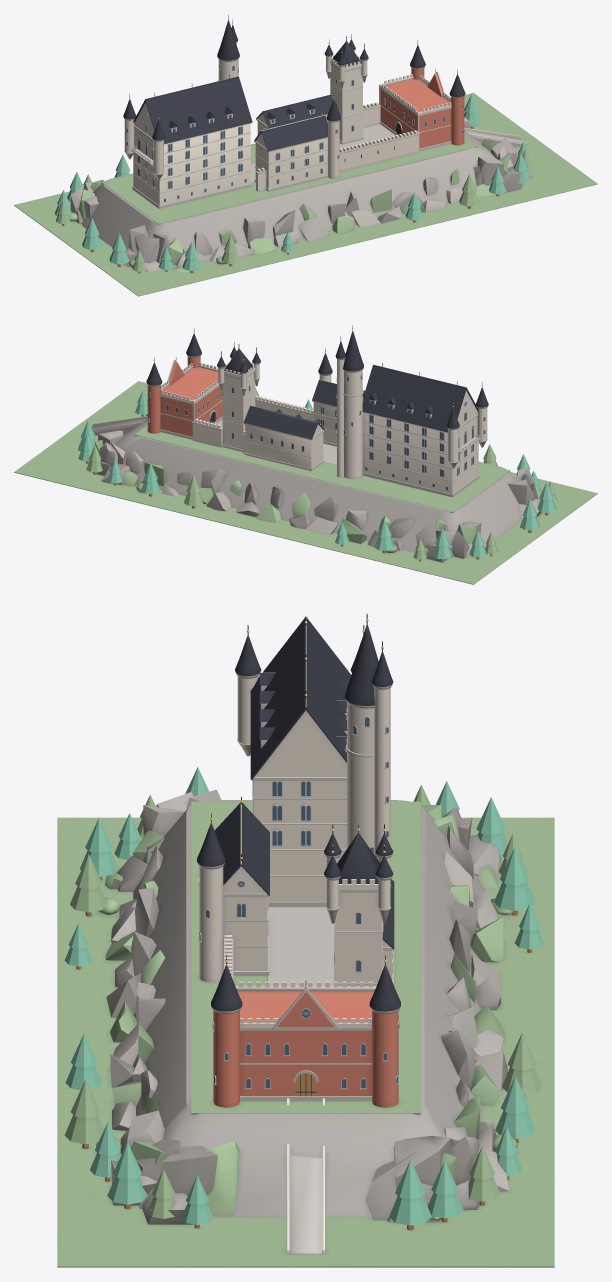
File: neuschwanstein-castle.glb
3 views of the same model, one above another, from view 1: azimuth 30°, elevation 25°; view 2: azimuth 150°, elevation 25°; view 3: azimuth 270°, elevation 25° (orthographic). The views are drawn at different scales.
Visible parts, largest first — view 1: neuschwanstein-castle_body, neuschwanstein-castle_stone_trim, neuschwanstein-castle_details, neuschwanstein-castle_window_panes; view 2: neuschwanstein-castle_body, neuschwanstein-castle_stone_trim, neuschwanstein-castle_details, neuschwanstein-castle_window_panes; view 3: neuschwanstein-castle_body, neuschwanstein-castle_stone_trim, neuschwanstein-castle_details, neuschwanstein-castle_window_panes.
Boxes of the visible parts, x1,y1,x2,y2 form: neuschwanstein-castle_body: (14, 20, 597, 296); neuschwanstein-castle_stone_trim: (124, 41, 464, 208); neuschwanstein-castle_details: (126, 14, 463, 202); neuschwanstein-castle_window_panes: (126, 64, 463, 201); neuschwanstein-castle_body: (14, 330, 597, 584); neuschwanstein-castle_stone_trim: (147, 354, 487, 497); neuschwanstein-castle_details: (148, 325, 485, 490); neuschwanstein-castle_window_panes: (148, 375, 485, 490); neuschwanstein-castle_body: (57, 616, 554, 1267); neuschwanstein-castle_stone_trim: (197, 672, 400, 1101); neuschwanstein-castle_details: (198, 613, 399, 1096); neuschwanstein-castle_window_panes: (199, 686, 398, 1088).
Size of the model in its own units: 222 by 85.16 by 104.
Materials: 10 (1 with a texture image).
